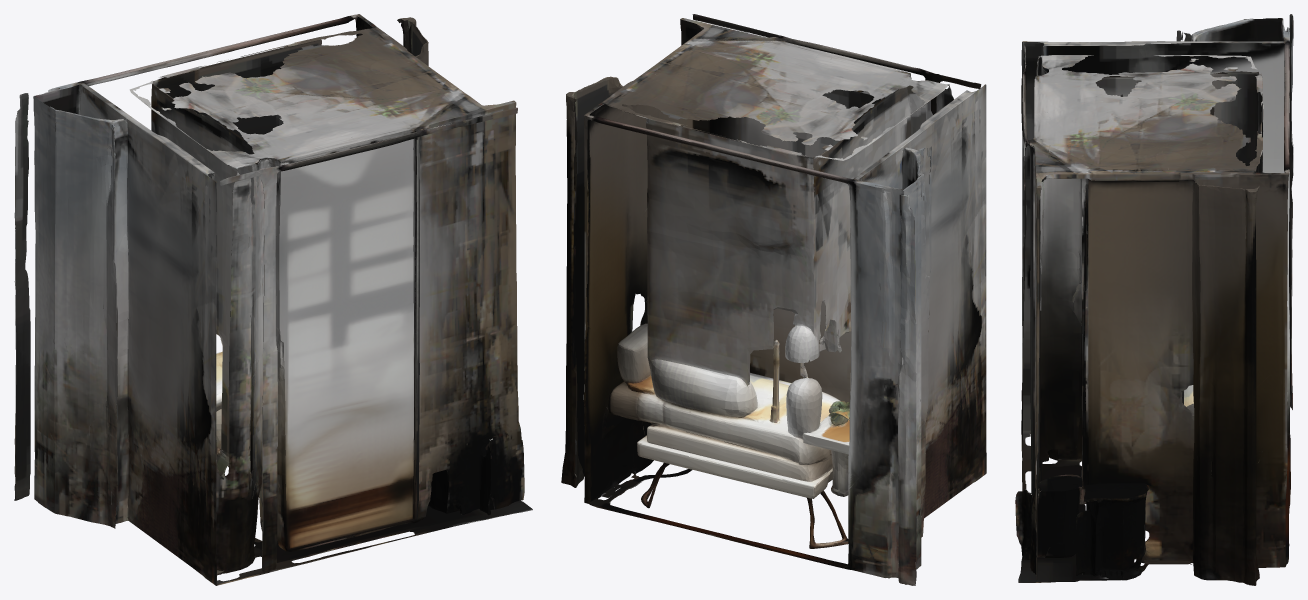
File: largemirror.glb
3 views of the same model, side by side, from view 1: azimuth 30°, elevation 25°; view 2: azimuth 150°, elevation 25°; view 3: azimuth 270°, elevation 25° (orthographic). The views are drawn at different scales.
Parts seen in each view (by area): view 1: world; view 2: world; view 3: world.
Part boxes in pixels (left/top/right/bottom): world: left=14, top=14, right=532, bottom=585; world: left=561, top=14, right=986, bottom=585; world: left=1015, top=14, right=1293, bottom=585.
Size of the model in its own units: 0.9994 by 1 by 0.6423.
Materials: 1 (1 with a texture image).
